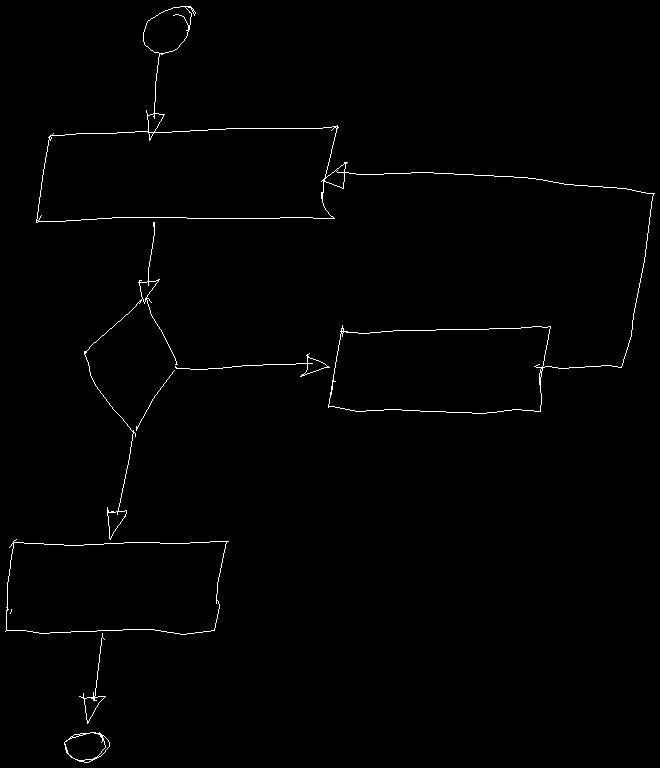arrow: (321, 162, 654, 368), (175, 353, 329, 376), (107, 430, 135, 539), (79, 633, 105, 723), (138, 222, 159, 303), (146, 53, 164, 140)
connection: (143, 6, 195, 53), (64, 732, 109, 762)
decision: (84, 298, 177, 431)
process: (36, 125, 338, 222), (5, 539, 228, 634), (328, 325, 550, 413)
